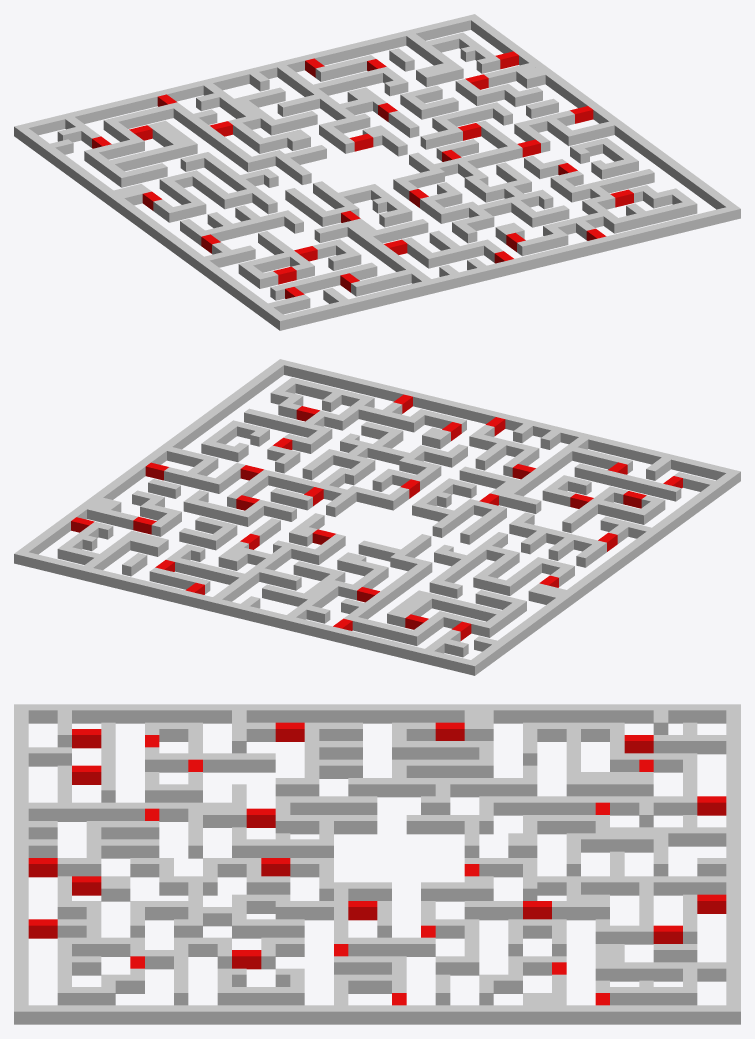
The model's file is Merged_Maze_Template.FBX.
3 views of the same model, one above another, from view 1: azimuth 30°, elevation 25°; view 2: azimuth 150°, elevation 25°; view 3: azimuth 270°, elevation 25° (orthographic). The views are drawn at different scales.
Visible parts, largest first — view 1: Merged_Maze_Template; view 2: Merged_Maze_Template; view 3: Merged_Maze_Template.
Boxes of the visible parts, left/top/right/bottom form: Merged_Maze_Template: left=14, top=14, right=740, bottom=330; Merged_Maze_Template: left=14, top=359, right=740, bottom=675; Merged_Maze_Template: left=14, top=704, right=740, bottom=1024.
Size of what is drawn, in the model's own units: 5000 by 5000 by 100.
